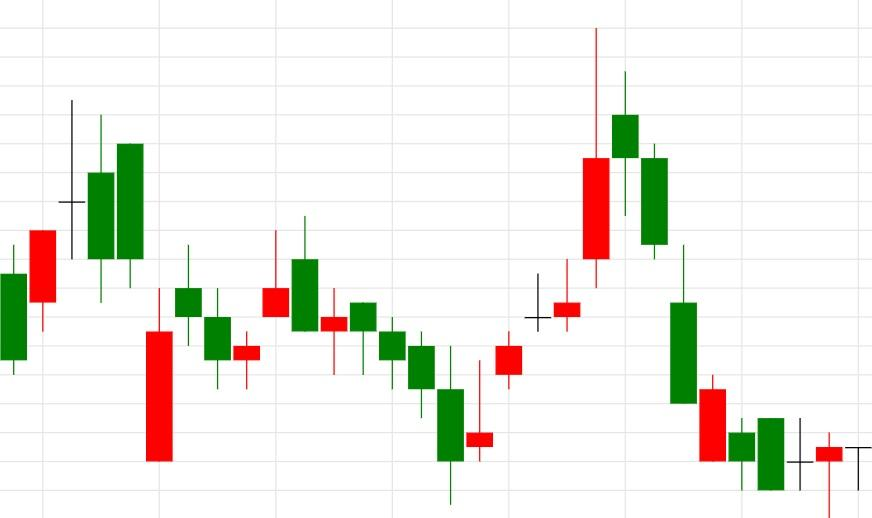bearish_engulfing_fall: (233, 216, 319, 390)
three_black_crows_fall: (435, 28, 698, 504)
